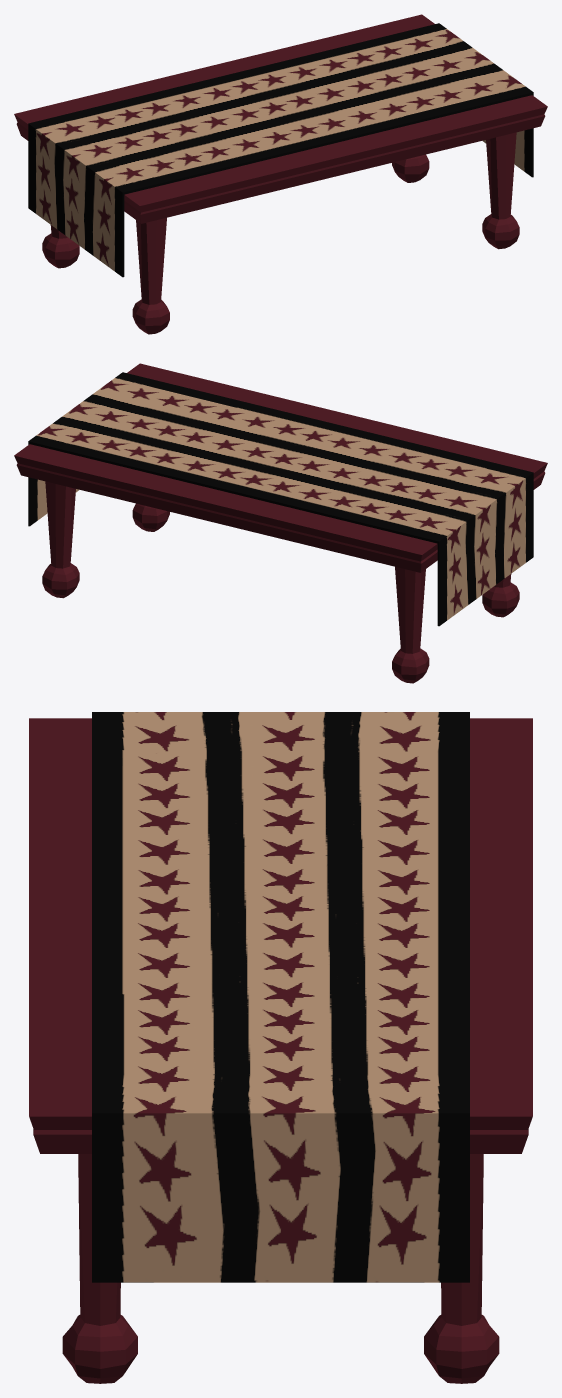
File: party_table_ver2.fbx
3 views of the same model, one above another, from view 1: azimuth 30°, elevation 25°; view 2: azimuth 150°, elevation 25°; view 3: azimuth 270°, elevation 25° (orthographic). The views are drawn at different scales.
Visible parts, largest first — view 1: party_table_ver2; view 2: party_table_ver2; view 3: party_table_ver2.
Part boxes in pixels (x1,y1,x2,y2): party_table_ver2: [14, 14, 547, 334]; party_table_ver2: [14, 363, 547, 683]; party_table_ver2: [29, 712, 532, 1383].
Size of the model in its own units: 2.78 by 1.48 by 0.9508.
Materials: 1 (1 with a texture image).
